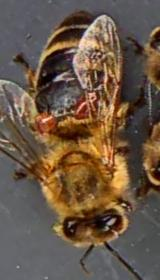varroa_mite: (68, 89, 100, 125), (36, 101, 62, 135)
